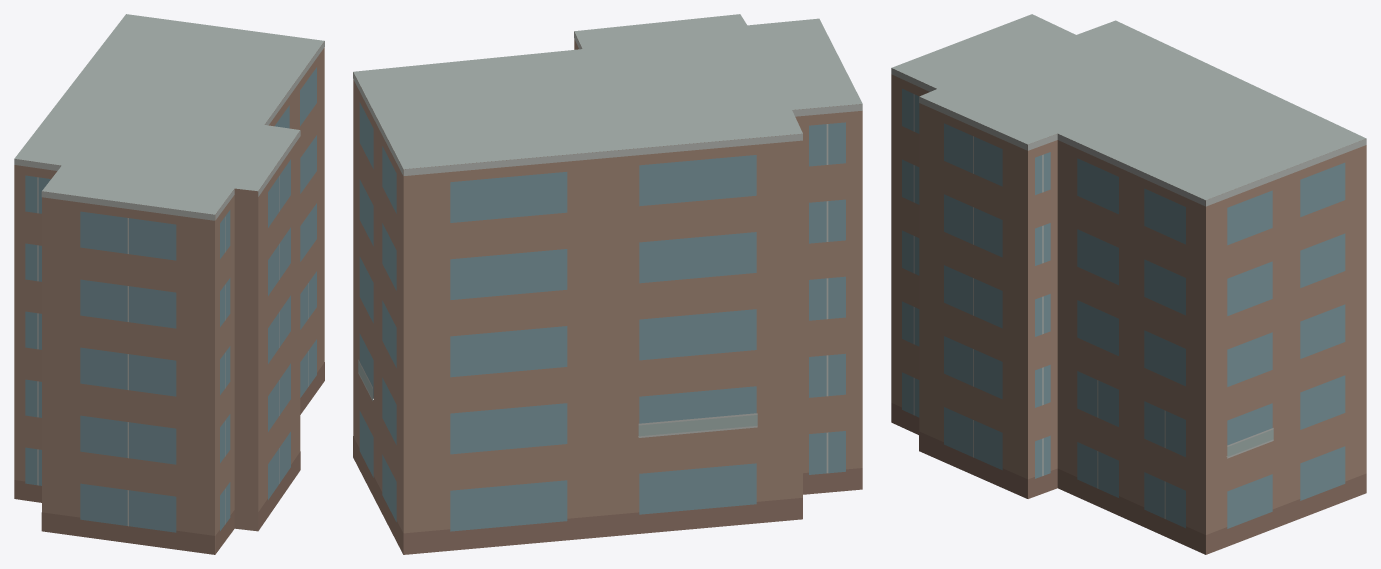
The model's file is survey-upis-32710614.glb.
3 renders of one model, left to right at view 1: azimuth 30°, elevation 25°; view 2: azimuth 150°, elevation 25°; view 3: azimuth 270°, elevation 25°, orthographic. The views are drawn at different scales.
Parts seen in each view (by area): view 1: survey-upis-32710614.tmp; view 2: survey-upis-32710614.tmp; view 3: survey-upis-32710614.tmp.
Part boxes in pixels (x1=…): survey-upis-32710614.tmp: x1=14, y1=14, x2=324, y2=554; survey-upis-32710614.tmp: x1=353, y1=14, x2=862, y2=554; survey-upis-32710614.tmp: x1=891, y1=14, x2=1366, y2=554.
Size of the model in its own units: 15.33 by 13.6 by 16.53.
